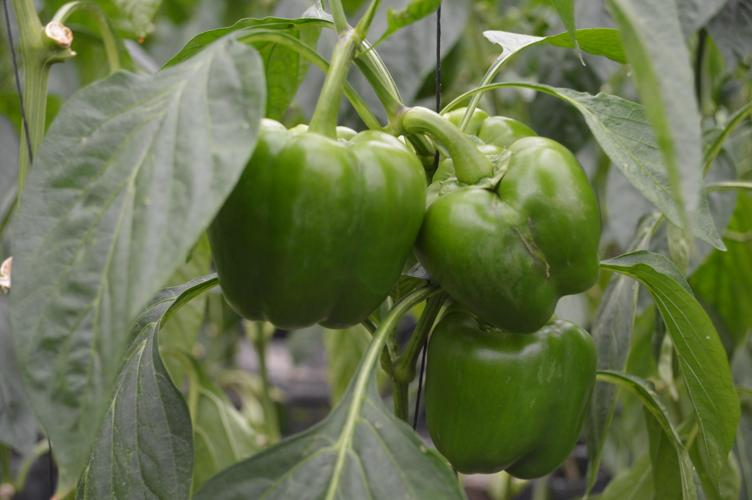BellPepper: (184, 117, 406, 339), (408, 146, 587, 325), (426, 330, 583, 487)
